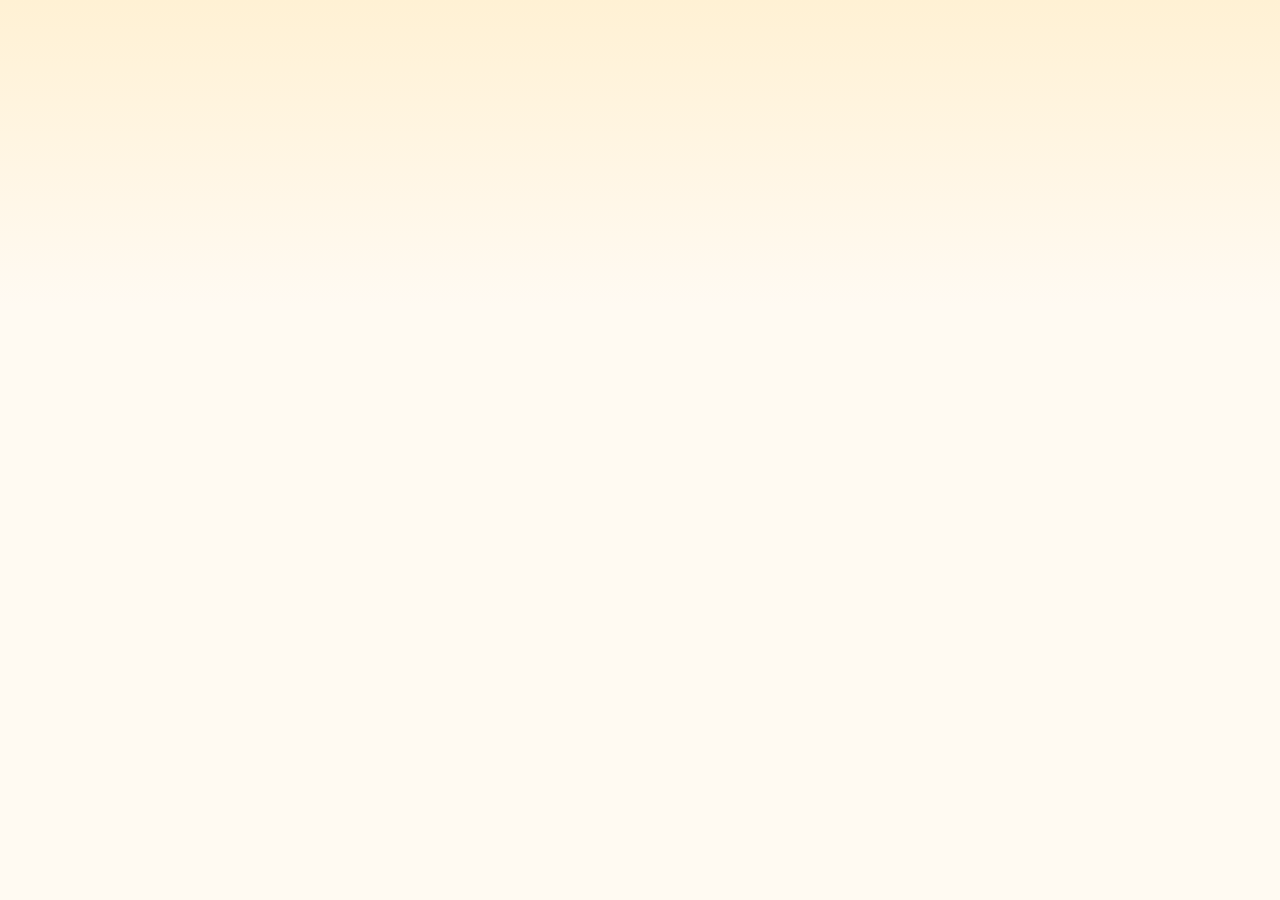
CommandPalette › shows a helpful empty state
Type keys "{Control>}k{/Control}"
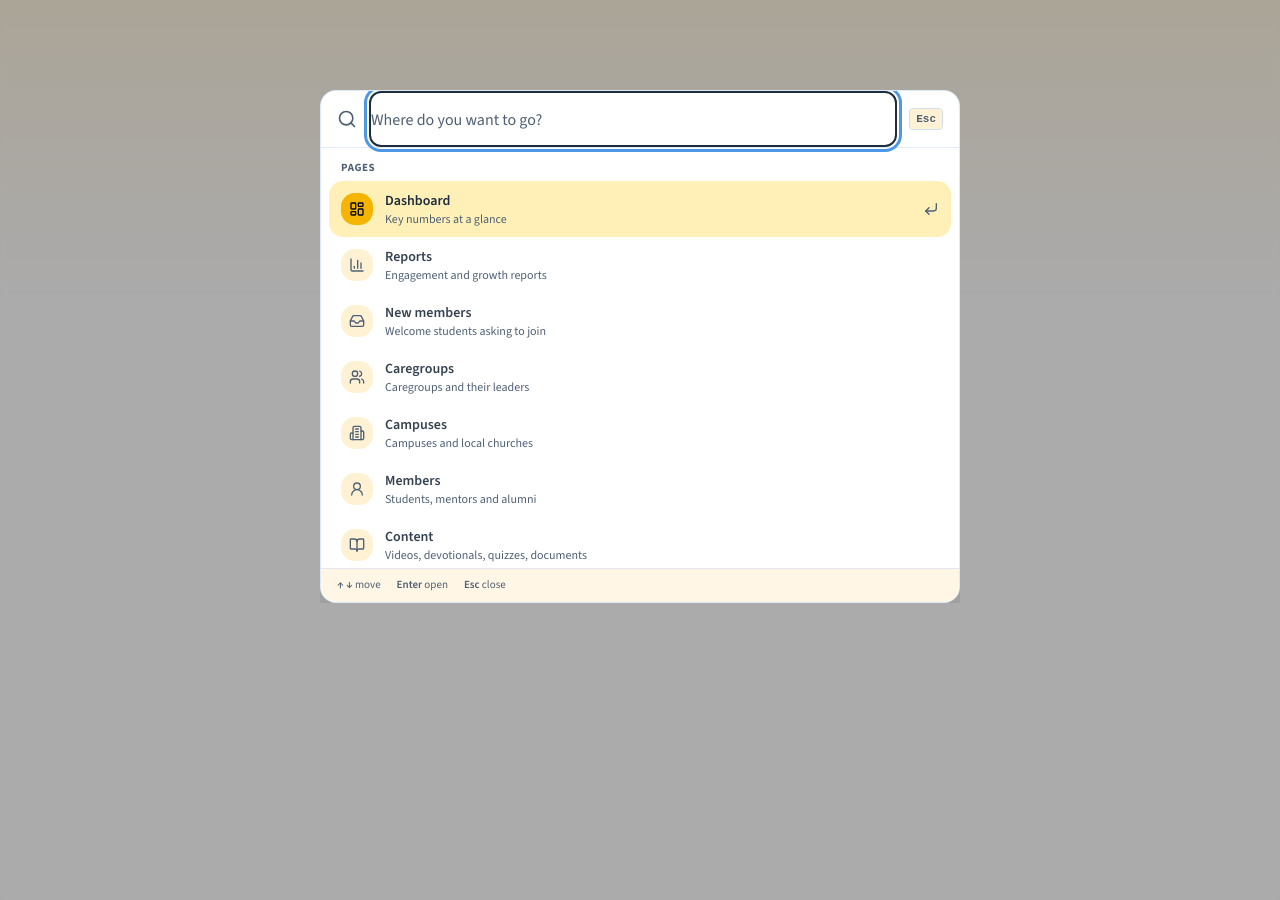
Type "zzzz" into the dropdown.
click(633, 119); type("zzzz")  # box [369,91,897,147]
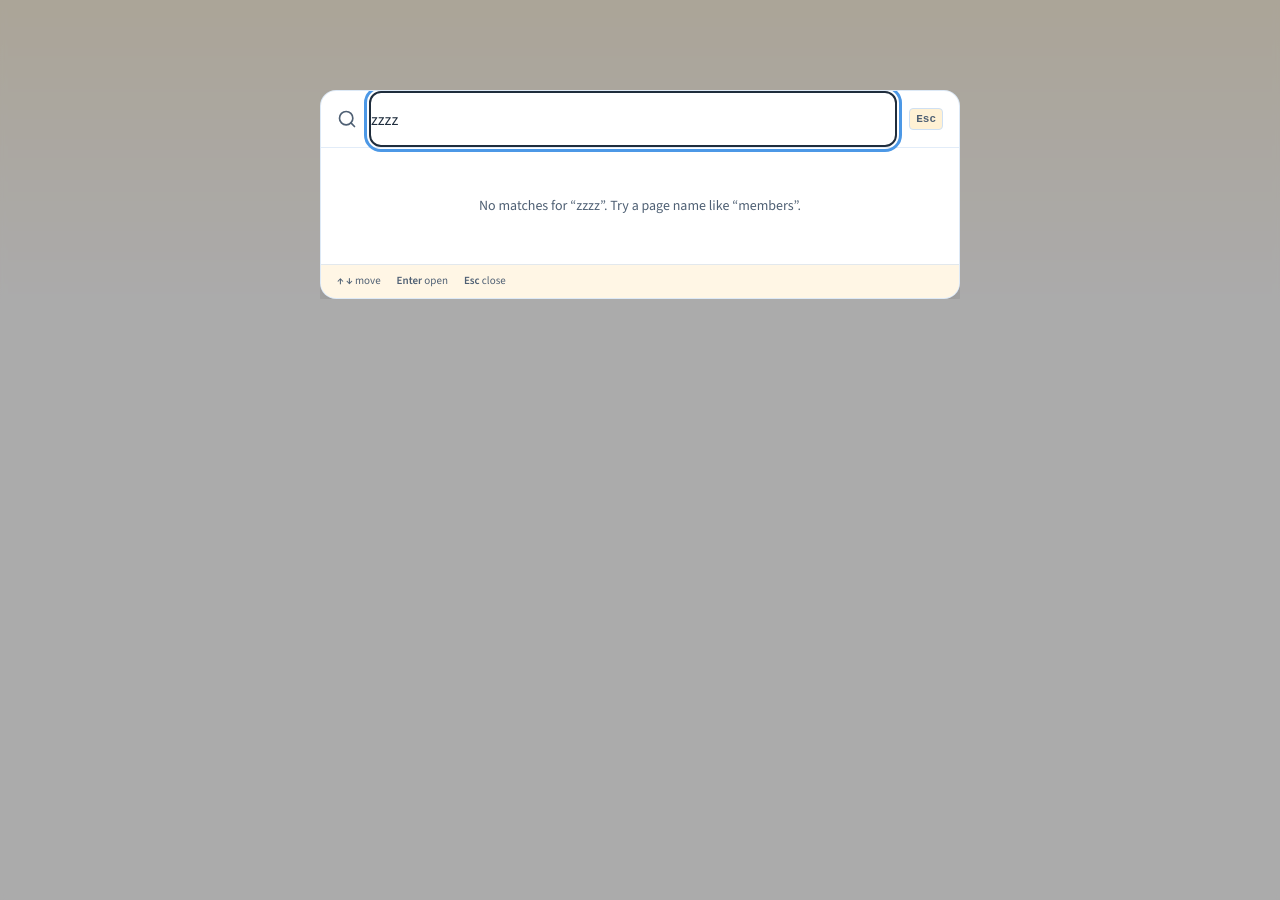
Expected: the list item "No matches for “zzzz”. Try a page name like “members”." is shown, [479,196,801,215]
